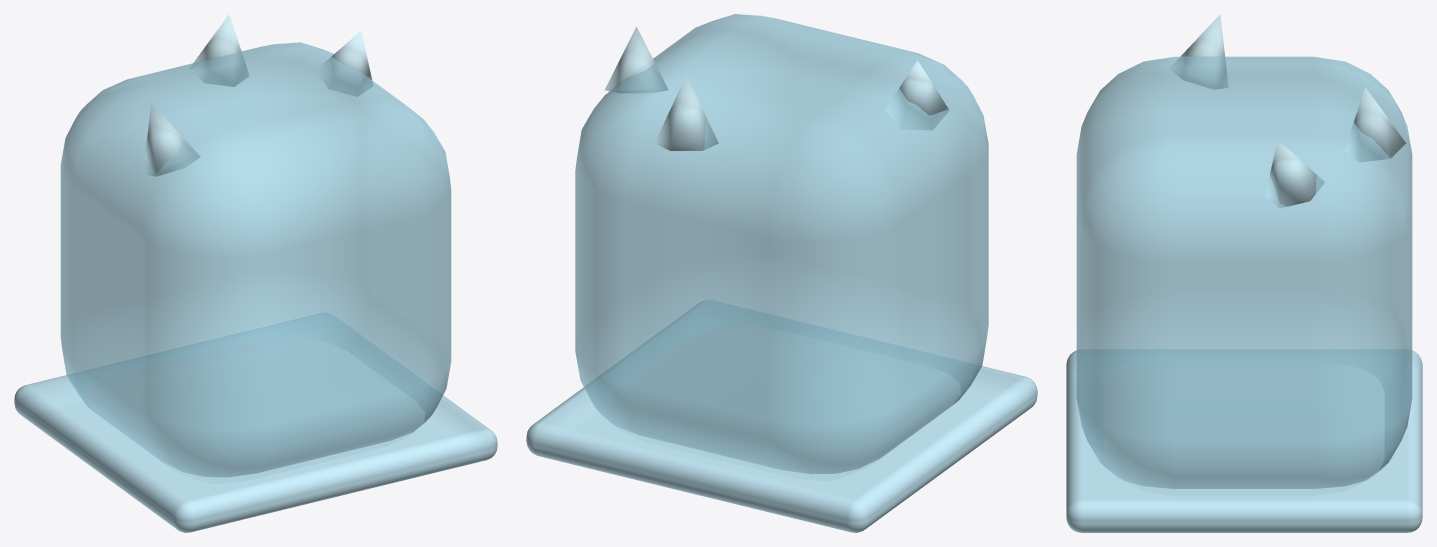
The model's file is overlay_frozen.glb.
3 views of the same model, side by side, from view 1: azimuth 30°, elevation 25°; view 2: azimuth 150°, elevation 25°; view 3: azimuth 270°, elevation 25° (orthographic). The views are drawn at different scales.
Parts seen in each view (by area): view 1: IceShell, IceBase, IceSpike2, IceSpike0, IceSpike1; view 2: IceShell, IceBase, IceSpike2, IceSpike0, IceSpike1; view 3: IceShell, IceBase, IceSpike2, IceSpike0, IceSpike1.
Part boxes in pixels (<box>): IceShell: <box>60,42,451,477</box>; IceBase: <box>14,313,497,532</box>; IceSpike2: <box>190,14,249,86</box>; IceSpike0: <box>143,103,200,176</box>; IceSpike1: <box>315,30,373,96</box>; IceShell: <box>575,14,988,474</box>; IceBase: <box>526,300,1037,532</box>; IceSpike2: <box>655,75,718,150</box>; IceSpike0: <box>885,60,949,130</box>; IceSpike1: <box>604,26,668,93</box>; IceShell: <box>1076,56,1412,488</box>; IceBase: <box>1066,349,1422,532</box>; IceSpike2: <box>1344,87,1405,162</box>; IceSpike0: <box>1169,14,1228,89</box>; IceSpike1: <box>1265,140,1324,208</box>.
Size of the model in its own units: 1.1 by 1.22 by 1.02.
